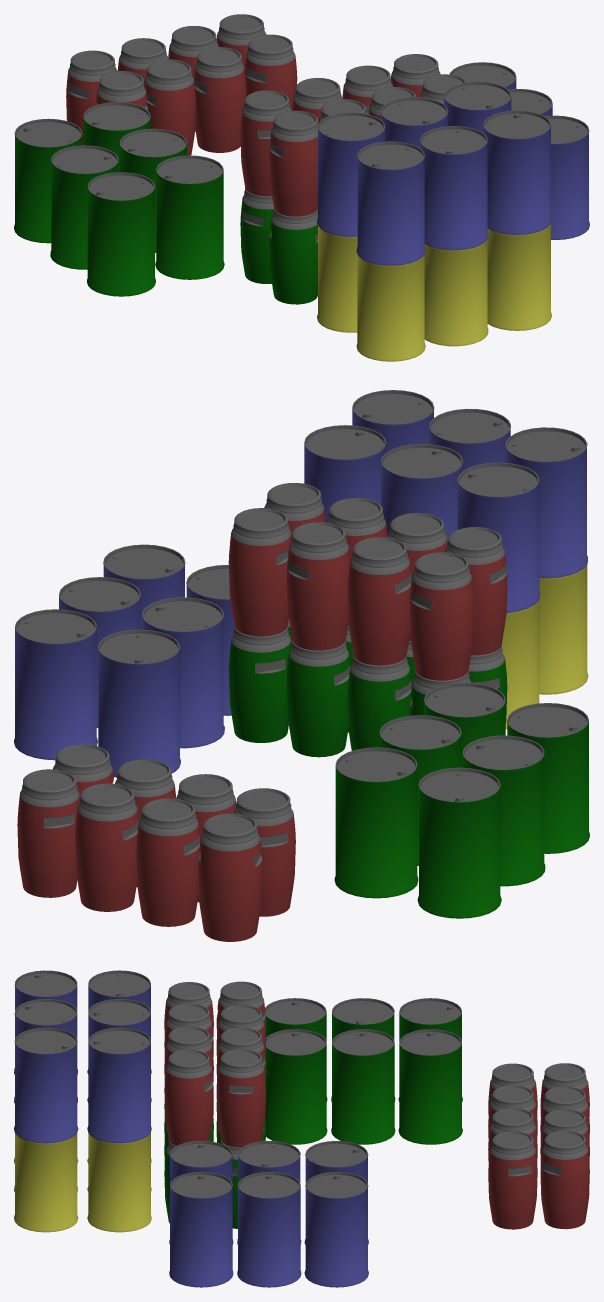
The model's file is coklu_renkli_barrel_1.fbx.
3 views of the same model, one above another, from view 1: azimuth 30°, elevation 25°; view 2: azimuth 150°, elevation 25°; view 3: azimuth 270°, elevation 25° (orthographic). The views are drawn at different scales.
Parts seen in each view (by area): view 1: polySurface61; view 2: polySurface61; view 3: polySurface61.
Boxes of the visible parts, x1=… form: polySurface61: x1=14, y1=14, x2=589, y2=361; polySurface61: x1=14, y1=390, x2=589, y2=941; polySurface61: x1=14, y1=970, x2=589, y2=1287.
Size of the model in its own units: 388 by 160 by 470.
